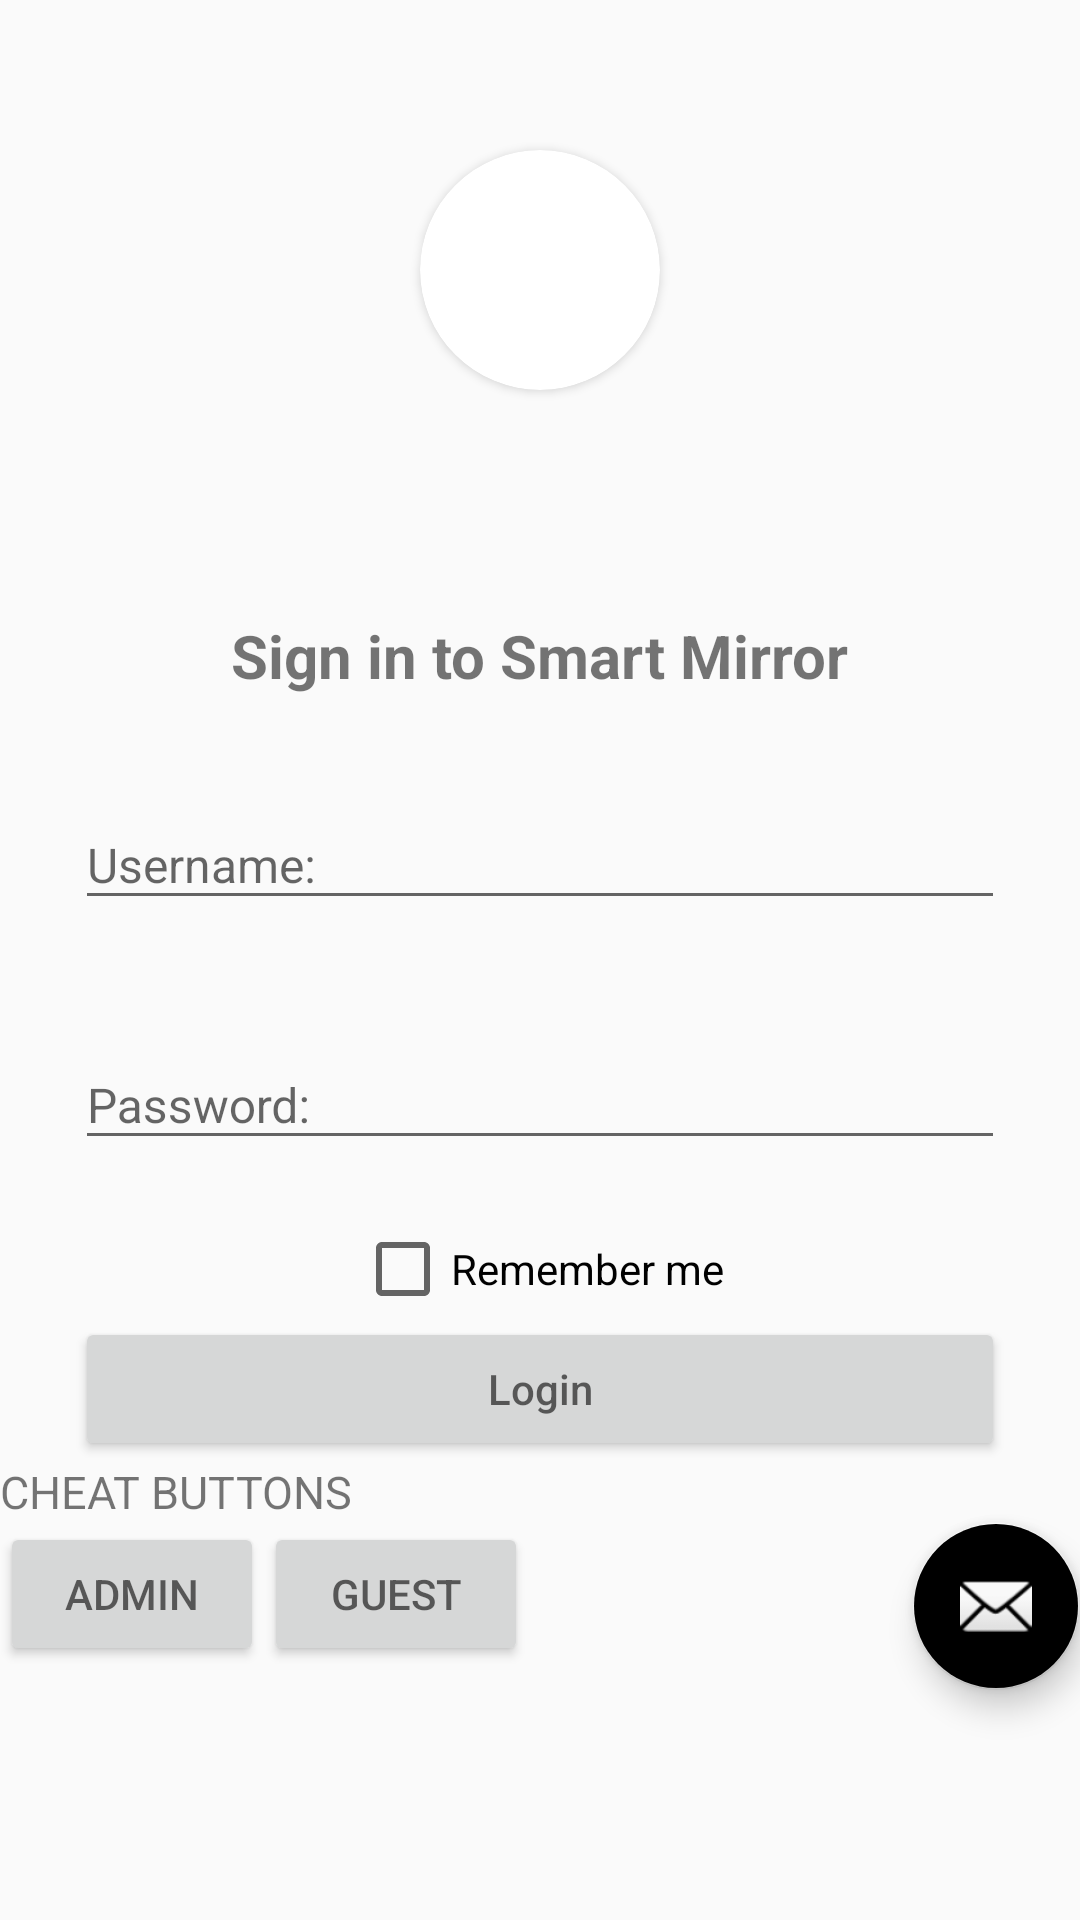

Screen size 1080w x 1920h. Icon name, then its box in pixels as {"x1": x1, "y1": y1, "x2": x2, "y2": y2}:
email: {"x1": 914, "y1": 1524, "x2": 1080, "y2": 1690}
